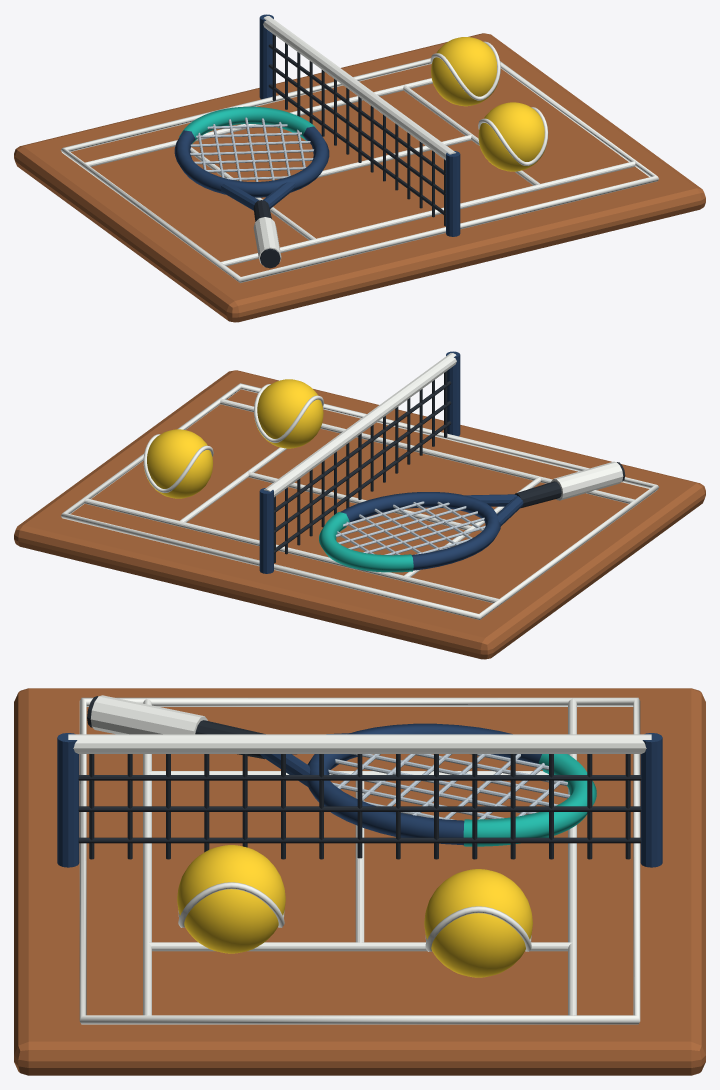
Rendered from tennis.glb.
The picture shows the model from 3 angles, top to bottom: view 1: azimuth 30°, elevation 25°; view 2: azimuth 150°, elevation 25°; view 3: azimuth 270°, elevation 25°; orthographic projection. The views are drawn at different scales.
Parts seen in each view (by area): view 1: tennis; view 2: tennis; view 3: tennis.
Part boxes in pixels (x1=…): tennis: x1=14, y1=14, x2=705, y2=322; tennis: x1=14, y1=351, x2=705, y2=659; tennis: x1=14, y1=688, x2=705, y2=1075.
Bounding box in the file's own units: 0.35 × 0.073 × 0.28.
